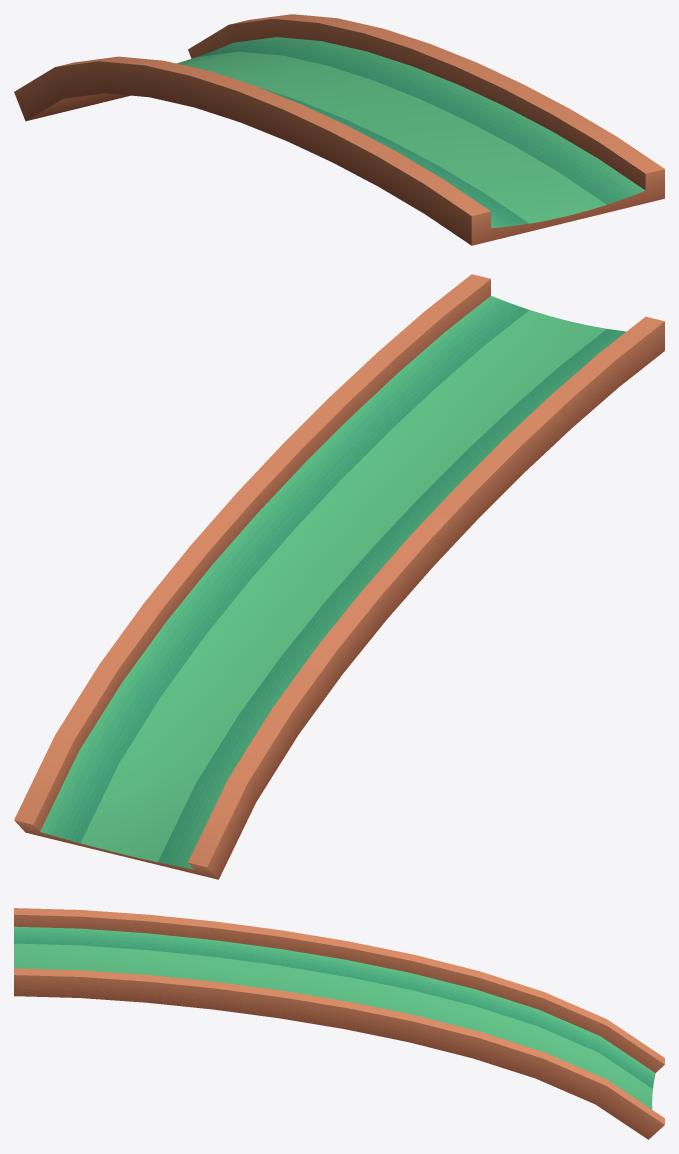
The model's file is spline-concave-straight-hill-end.glb.
3 views of the same model, one above another, from view 1: azimuth 30°, elevation 25°; view 2: azimuth 150°, elevation 25°; view 3: azimuth 270°, elevation 25° (orthographic). The views are drawn at different scales.
Parts seen in each view (by area): view 1: spline-concave-straight-hill-end; view 2: spline-concave-straight-hill-end; view 3: spline-concave-straight-hill-end.
Boxes of the visible parts, x1,y1,x2,y2 form: spline-concave-straight-hill-end: (14, 14, 664, 245); spline-concave-straight-hill-end: (14, 274, 664, 879); spline-concave-straight-hill-end: (14, 908, 664, 1139).
Size of the model in its own units: 0.9999 by 1.15 by 4.1.
1 material, 1 textured.
